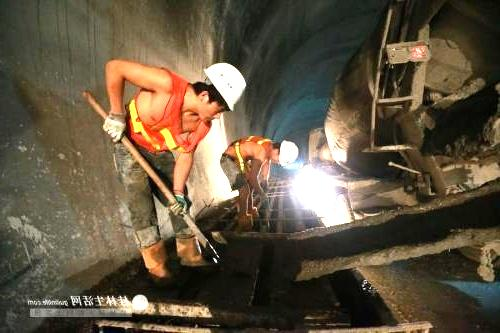helmet: (191, 62, 247, 122), (270, 138, 299, 167)
